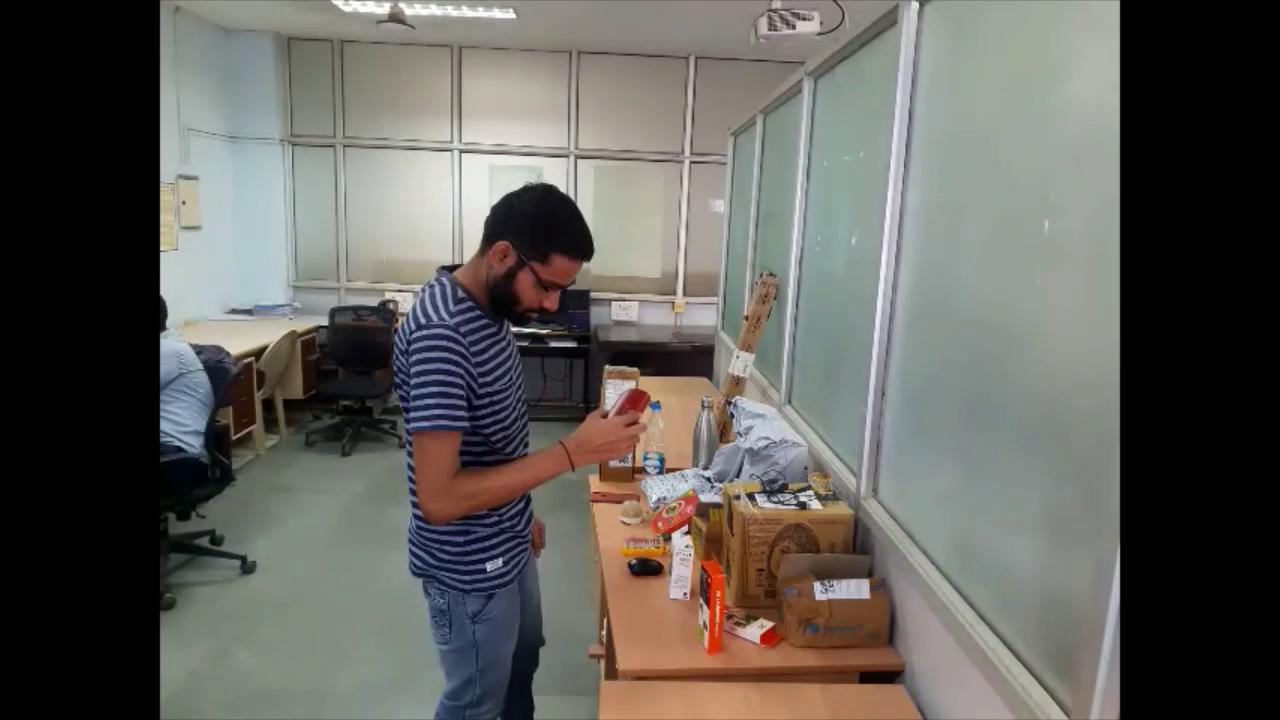Normal: (380, 165, 657, 719)
